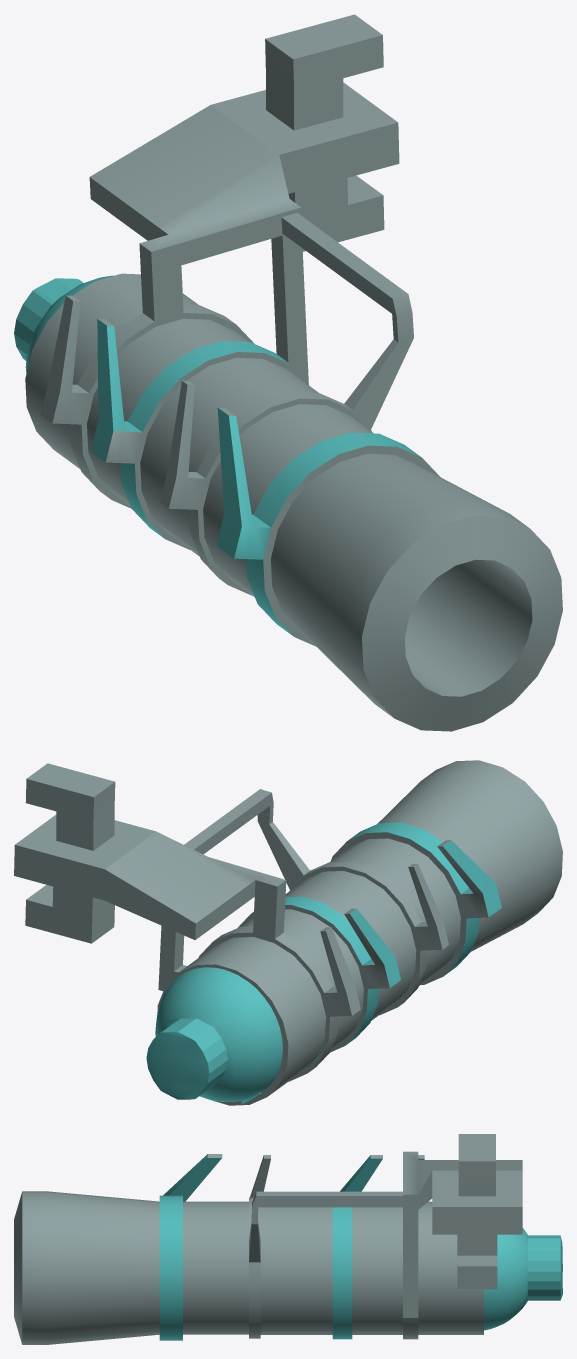
Rendered from Cannon.fbx.
The picture shows the model from 3 angles, top to bottom: view 1: azimuth 30°, elevation 25°; view 2: azimuth 150°, elevation 25°; view 3: azimuth 270°, elevation 25°; orthographic projection. The views are drawn at different scales.
Parts seen in each view (by area): view 1: pPipe1, pSphere1; view 2: pPipe1, pSphere1; view 3: pPipe1, pSphere1.
Boxes of the visible parts, x1=… form: pPipe1: x1=25, y1=14, x2=562, y2=731; pSphere1: x1=14, y1=275, x2=113, y2=373; pPipe1: x1=14, y1=760, x2=562, y2=1105; pSphere1: x1=146, y1=967, x2=282, y2=1104; pPipe1: x1=14, y1=1134, x2=522, y2=1344; pSphere1: x1=484, y1=1228, x2=562, y2=1330.
Size of the model in its own units: 7.98 by 7.9 by 15.28.
